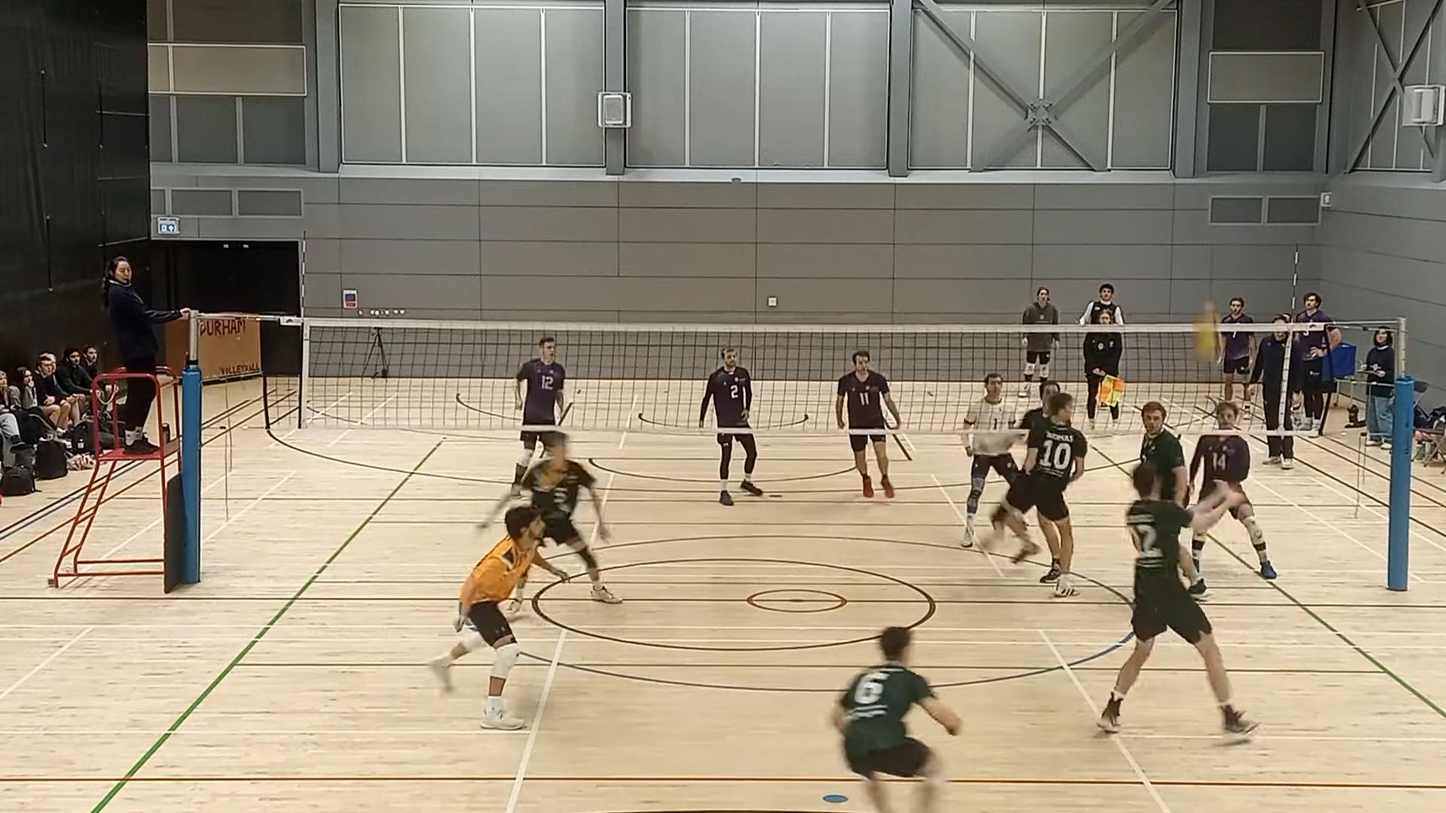difesa: (1100, 460, 1263, 744)
